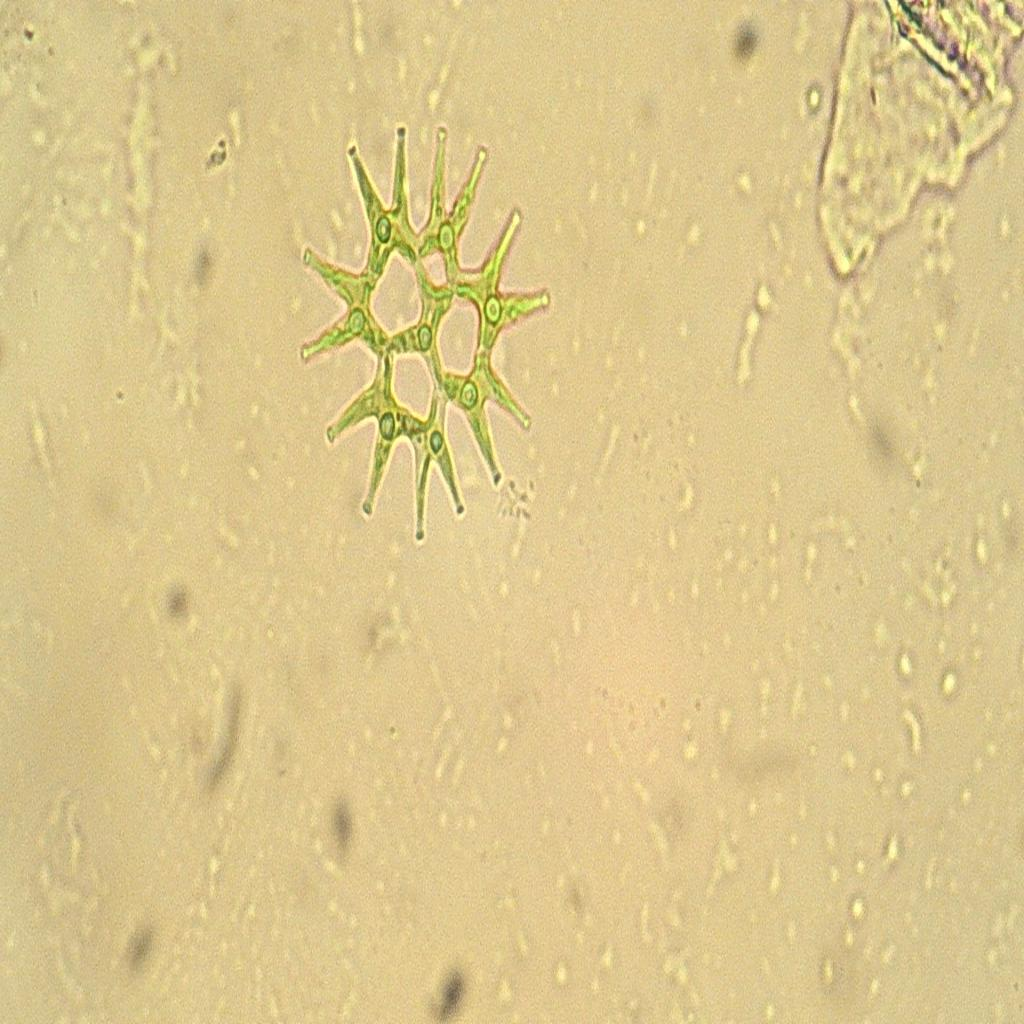Pediastrum_CTH: (285, 120, 568, 549)
